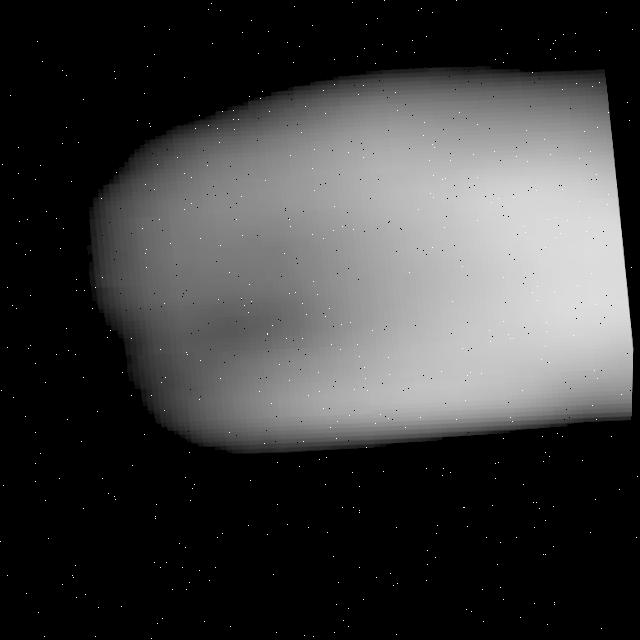person: (84, 51, 640, 534)
